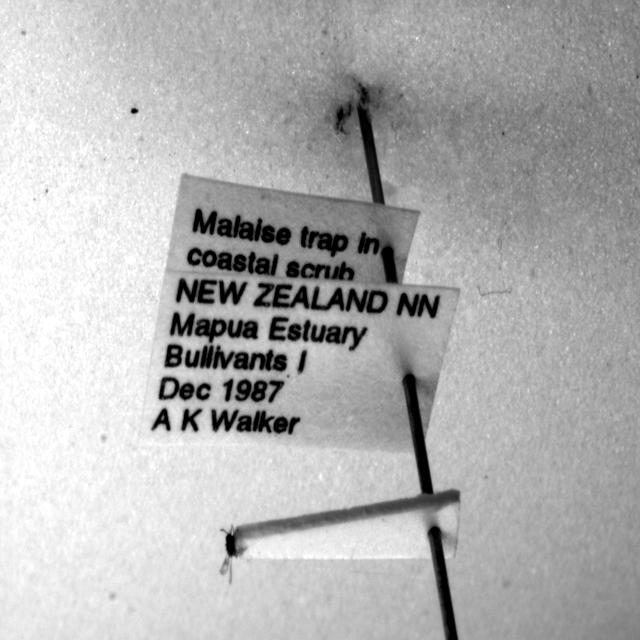typed_label: (141, 272, 459, 454), (168, 174, 419, 283)
